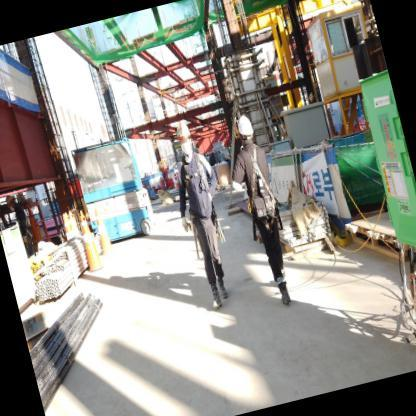safety-shoe: (277, 281, 298, 314), (204, 279, 226, 310)
